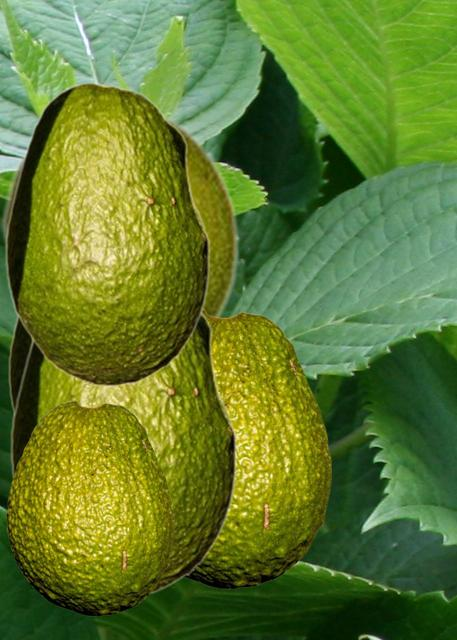avocado: (10, 310, 236, 596), (5, 81, 209, 386), (0, 106, 240, 337), (185, 309, 330, 588), (6, 400, 173, 615), (8, 315, 30, 413)
